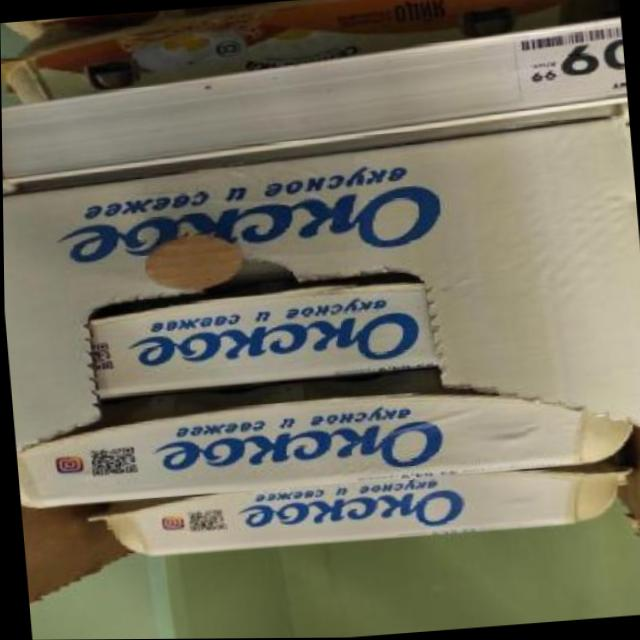Egg: (8, 346, 640, 510), (0, 0, 614, 108), (72, 456, 635, 567), (80, 267, 441, 396)
